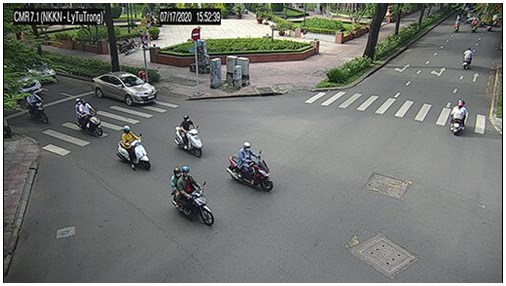di_bo: (318, 4, 324, 15)
xe_hoi: (90, 70, 157, 105), (8, 69, 40, 99), (26, 56, 59, 83)
xe_may: (170, 165, 215, 227), (227, 142, 274, 193), (116, 125, 152, 173), (174, 114, 203, 158), (75, 98, 103, 136), (26, 90, 49, 124), (450, 100, 468, 138), (117, 35, 139, 55), (461, 47, 473, 70), (452, 15, 462, 33), (469, 16, 478, 34), (492, 12, 500, 27), (486, 17, 492, 32)
